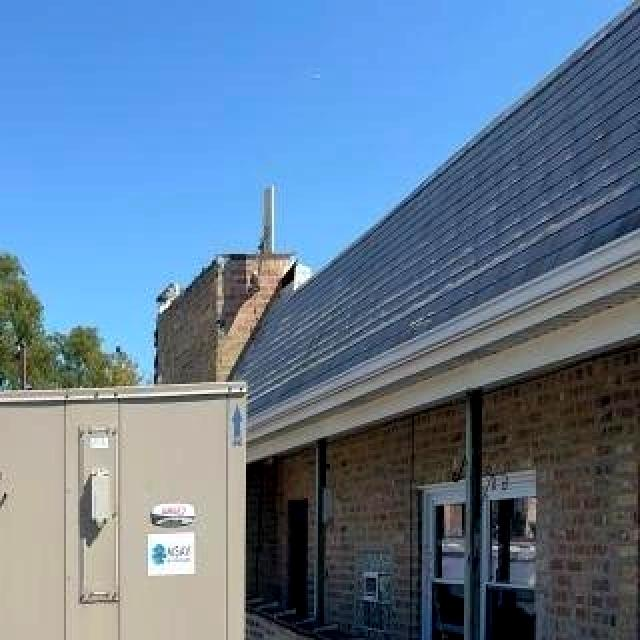RTU: (0, 380, 260, 640)
